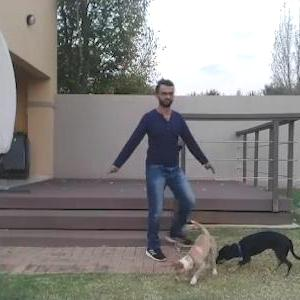land: (104, 93, 207, 262)
